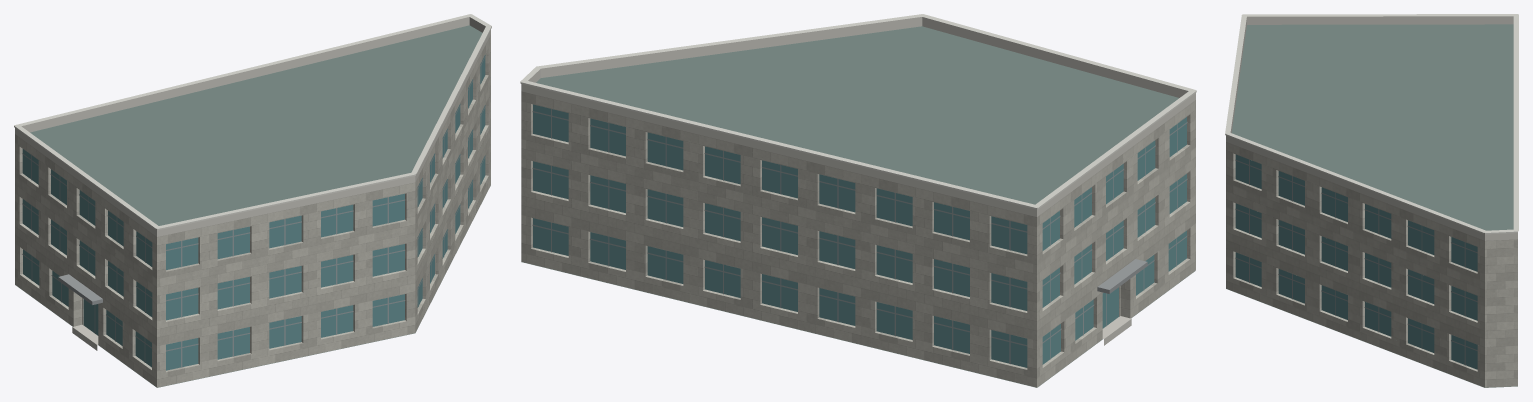
The picture shows the model from 3 angles, left to right: view 1: azimuth 30°, elevation 25°; view 2: azimuth 150°, elevation 25°; view 3: azimuth 270°, elevation 25°; orthographic projection. The views are drawn at different scales.
Parts seen in each view (by area): view 1: cHall__wall, cHall__roof, cHall__glass, cHall__parapet, cHall__trim, cHall__frame, cHall__canopy; view 2: cHall__wall, cHall__roof, cHall__glass, cHall__parapet, cHall__trim, cHall__frame, cHall__canopy; view 3: cHall__roof, cHall__wall, cHall__glass, cHall__parapet, cHall__trim, cHall__frame.
Boxes of the visible parts, x1,y1,x2,y2 form: cHall__wall: (15,35,490,387); cHall__roof: (15,25,490,387); cHall__glass: (22,55,485,370); cHall__parapet: (15,17,490,236); cHall__trim: (14,14,491,230); cHall__frame: (22,55,485,367); cHall__canopy: (58,274,102,304); cHall__wall: (521,91,1195,387); cHall__roof: (521,26,1194,387); cHall__glass: (533,104,1186,367); cHall__parapet: (521,17,1195,216); cHall__trim: (520,14,1196,209); cHall__frame: (532,109,1187,364); cHall__canopy: (1097,259,1147,293); cHall__roof: (1227,24,1517,387); cHall__wall: (1226,142,1517,387); cHall__glass: (1235,154,1477,369); cHall__parapet: (1226,16,1517,240); cHall__trim: (1225,14,1518,234); cHall__frame: (1235,159,1477,365).
Bounding box in the file's own units: 35.27 × 11.8 × 19.59.
Materials: 9 (1 with a texture image).
